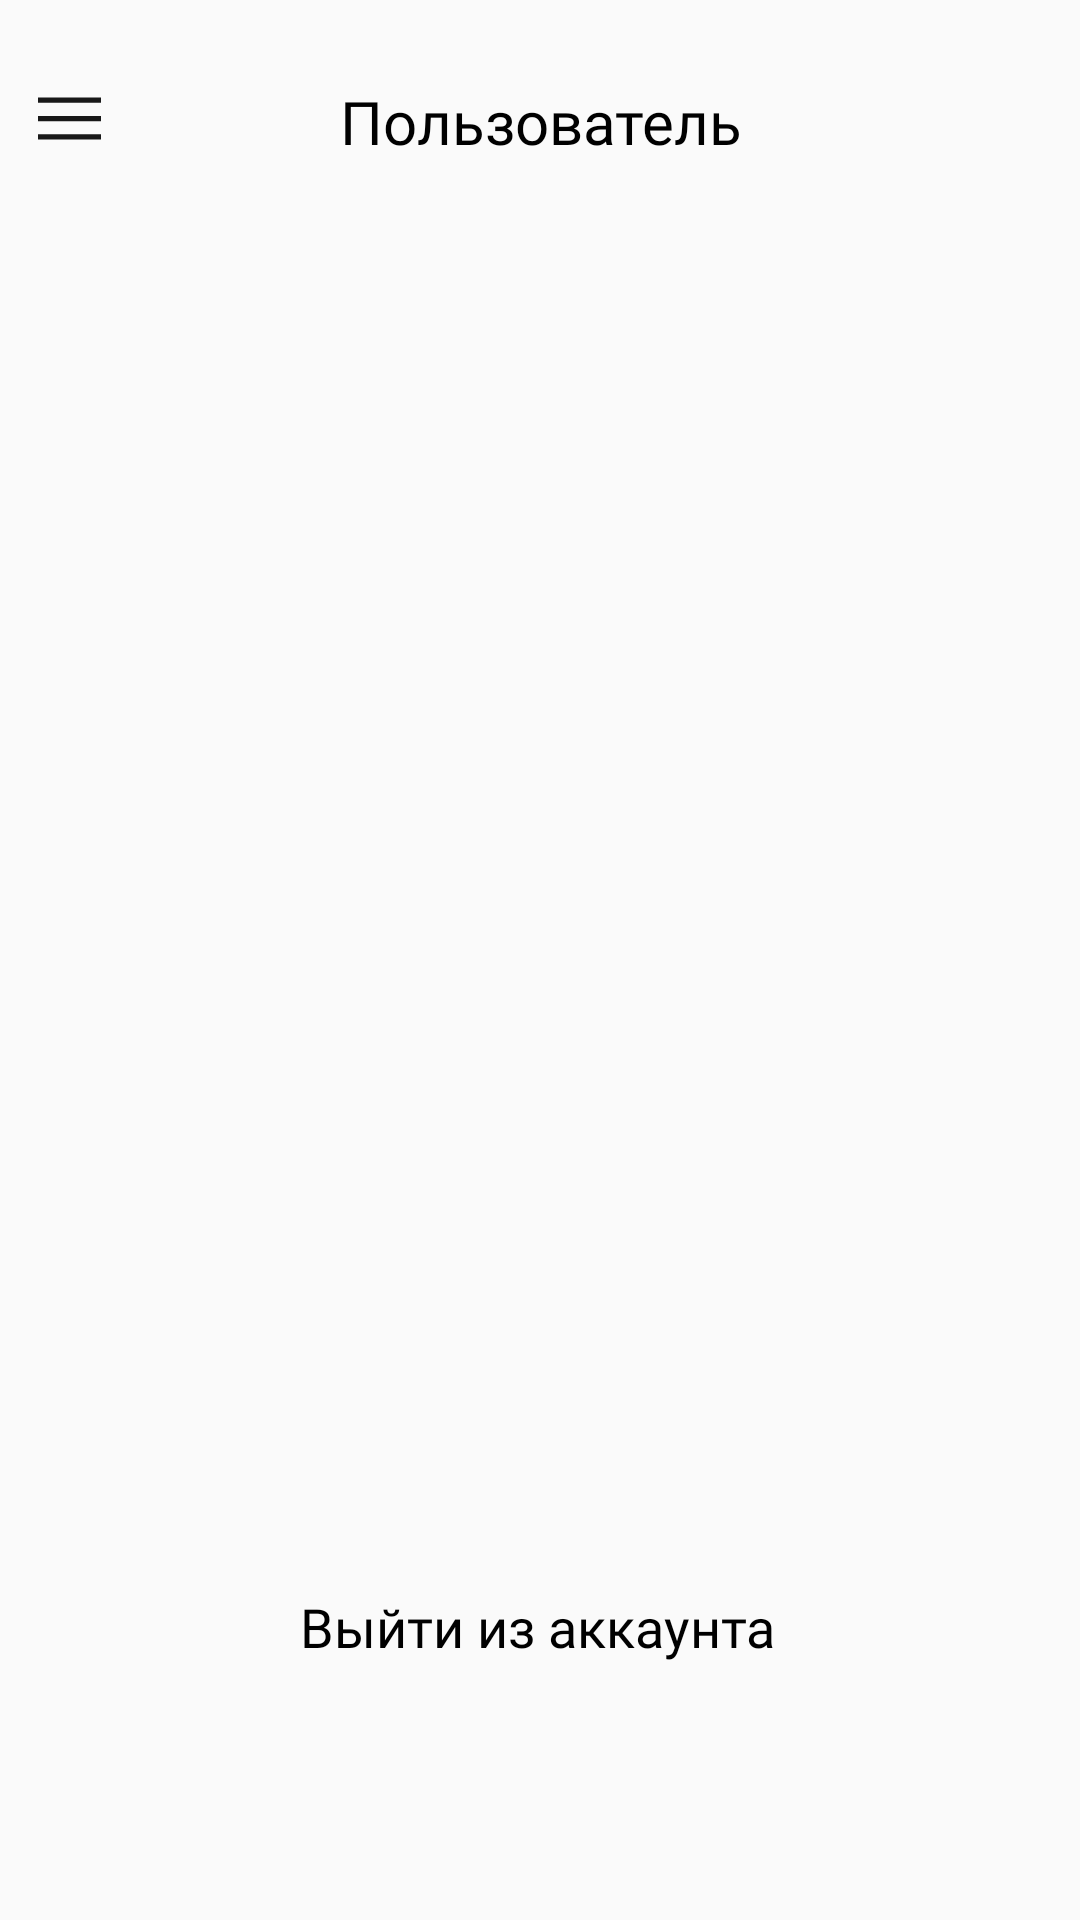

Point at icon controls on the screen. Image size 1080px x 1920px, points as (x,y).
burger menu: (69,118)
